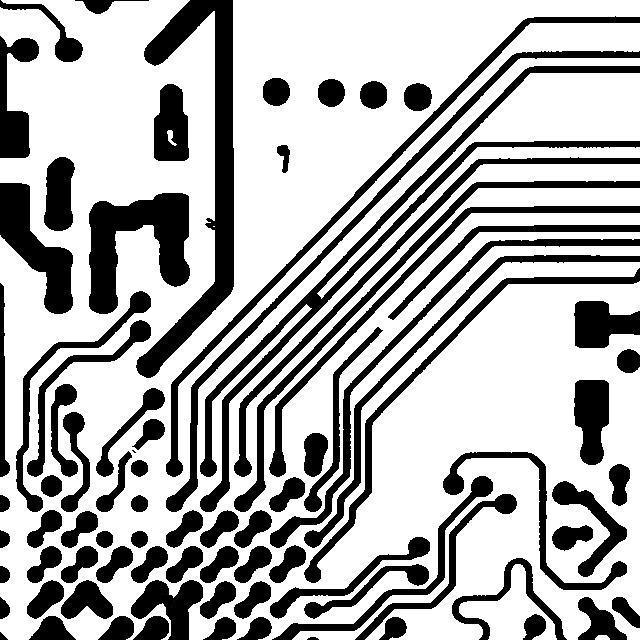copper: (267, 135, 299, 182)
open: (367, 307, 405, 341), (119, 437, 147, 465)
pin-hole: (157, 120, 186, 155)
short: (297, 284, 330, 317), (152, 585, 182, 616)
spur: (195, 208, 229, 243)
